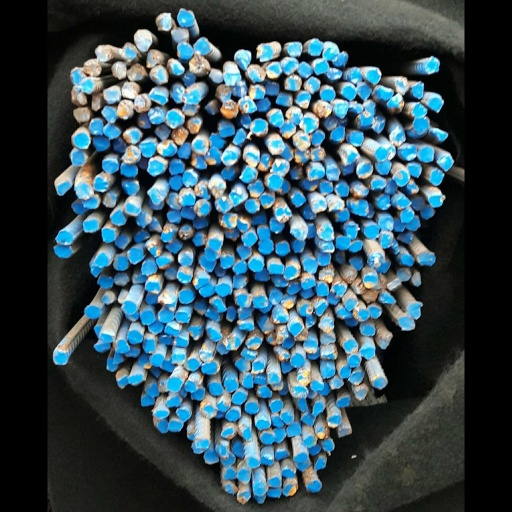dipstick: (105, 29, 128, 52), (124, 64, 148, 85), (124, 87, 149, 105), (84, 100, 106, 120), (211, 100, 235, 118), (229, 49, 249, 70), (284, 119, 305, 139), (89, 42, 111, 61), (268, 108, 290, 127), (274, 158, 297, 176), (417, 93, 437, 113), (131, 12, 152, 31), (292, 106, 313, 125), (151, 127, 173, 145), (92, 145, 114, 163), (57, 45, 80, 62), (233, 96, 257, 112), (159, 9, 180, 27), (178, 37, 199, 55), (145, 110, 166, 128), (185, 254, 206, 272), (331, 264, 352, 282), (44, 59, 66, 76), (146, 58, 168, 75), (92, 127, 114, 144), (279, 90, 301, 107), (303, 91, 325, 108), (317, 162, 340, 178), (232, 213, 251, 232), (337, 43, 356, 62), (106, 94, 126, 112), (223, 188, 243, 206), (240, 148, 260, 166), (224, 127, 244, 145), (379, 160, 399, 178), (396, 114, 414, 134), (158, 42, 179, 59), (176, 138, 197, 155), (180, 182, 201, 199), (298, 224, 319, 241), (209, 120, 230, 137), (255, 44, 276, 61), (225, 80, 246, 97), (151, 27, 173, 43), (122, 188, 144, 204), (133, 253, 155, 269), (235, 166, 257, 182), (27, 66, 46, 84), (124, 106, 143, 124), (165, 169, 184, 187), (180, 199, 199, 217), (463, 55, 481, 74), (193, 147, 213, 164), (245, 180, 265, 197), (287, 57, 307, 74), (291, 74, 311, 91), (315, 77, 335, 94), (380, 111, 400, 128), (68, 87, 89, 103), (144, 238, 165, 254), (248, 118, 269, 134), (206, 84, 227, 100), (308, 117, 329, 133), (68, 124, 90, 139), (32, 183, 54, 198), (145, 192, 163, 210), (266, 78, 284, 96), (91, 82, 110, 99), (151, 84, 168, 103), (440, 303, 459, 320), (389, 68, 408, 85), (426, 77, 445, 94), (97, 64, 117, 80), (213, 213, 233, 229), (276, 307, 296, 323), (348, 281, 368, 297), (247, 66, 267, 82), (305, 61, 325, 77), (402, 193, 422, 209), (448, 117, 468, 133), (478, 155, 498, 171), (55, 136, 76, 151), (122, 160, 143, 175), (91, 180, 112, 195), (160, 289, 181, 304), (270, 139, 291, 154), (391, 253, 412, 268), (165, 90, 187, 104), (65, 159, 87, 173), (66, 106, 84, 123), (66, 191, 84, 208), (319, 38, 337, 55), (77, 62, 96, 78), (115, 51, 134, 67), (170, 117, 189, 133), (131, 124, 150, 140), (149, 158, 168, 174), (160, 224, 179, 240), (332, 224, 351, 240), (322, 197, 341, 213), (351, 181, 370, 197), (198, 132, 217, 148), (268, 62, 287, 78), (343, 64, 362, 80), (380, 84, 399, 100), (454, 146, 473, 162), (27, 150, 47, 165), (112, 142, 132, 157), (114, 260, 134, 275), (158, 268, 178, 283), (258, 239, 278, 254), (243, 335, 263, 350), (279, 207, 299, 222), (321, 147, 341, 162), (446, 103, 466, 118), (89, 163, 110, 177), (10, 231, 31, 245), (44, 305, 65, 319), (179, 275, 200, 289), (198, 298, 219, 312), (246, 85, 267, 99), (455, 252, 476, 266), (51, 118, 68, 135), (364, 222, 381, 239), (56, 176, 74, 192), (260, 192, 278, 208), (327, 300, 345, 316), (313, 258, 331, 274), (327, 59, 345, 75), (322, 130, 340, 146), (408, 230, 424, 248), (8, 244, 30, 257), (98, 248, 117, 263), (119, 242, 138, 257), (146, 377, 165, 392), (206, 197, 225, 212), (270, 175, 289, 190), (382, 344, 401, 359), (351, 208, 370, 223), (302, 148, 321, 163), (424, 171, 443, 186), (402, 160, 421, 175), (434, 145, 453, 160), (360, 86, 379, 101), (419, 131, 438, 146), (445, 196, 464, 211), (466, 97, 485, 112), (31, 108, 51, 122), (159, 251, 179, 265), (171, 326, 191, 340), (188, 405, 208, 419), (216, 336, 236, 350), (185, 283, 205, 297), (213, 150, 233, 164), (213, 166, 233, 180), (298, 193, 318, 207), (344, 198, 364, 212), (319, 166, 339, 180), (403, 86, 423, 100), (193, 308, 214, 321), (159, 143, 176, 159), (351, 51, 368, 67), (351, 102, 368, 118), (371, 131, 388, 147), (442, 162, 459, 178), (469, 169, 486, 185), (32, 133, 50, 148), (108, 114, 126, 129), (78, 210, 96, 225), (6, 350, 24, 365), (232, 469, 250, 484), (279, 240, 297, 255), (333, 180, 351, 195), (294, 41, 312, 56), (255, 97, 273, 112), (347, 126, 365, 141), (406, 215, 424, 230), (439, 216, 457, 231), (42, 195, 61, 209), (28, 200, 47, 214), (81, 272, 100, 286), (112, 311, 131, 325), (97, 330, 116, 344), (225, 391, 244, 405), (230, 358, 249, 372), (195, 327, 214, 341), (206, 283, 225, 297), (227, 274, 246, 288), (256, 226, 275, 240), (289, 265, 308, 279), (310, 413, 329, 427), (313, 340, 332, 354), (370, 256, 389, 270), (313, 177, 332, 191), (427, 267, 446, 281), (426, 195, 445, 209), (429, 228, 448, 242), (160, 193, 180, 206), (89, 301, 109, 314), (231, 246, 251, 259), (332, 319, 352, 332), (431, 317, 451, 330), (271, 289, 287, 305), (39, 79, 56, 94), (79, 138, 96, 153), (148, 176, 165, 191), (83, 234, 100, 249), (216, 378, 233, 393), (276, 428, 293, 443), (447, 82, 462, 99), (341, 166, 358, 181), (363, 151, 380, 166), (65, 228, 83, 242), (109, 213, 127, 227), (80, 256, 98, 270), (124, 320, 142, 334), (168, 358, 186, 372), (212, 453, 230, 467), (192, 247, 213, 259), (239, 232, 257, 246), (306, 371, 324, 385), (272, 218, 290, 232), (241, 199, 259, 213), (387, 274, 405, 288), (403, 259, 421, 273), (457, 205, 475, 219), (145, 210, 164, 223), (163, 207, 182, 220), (62, 275, 81, 288), (136, 309, 155, 322), (246, 258, 265, 271), (254, 268, 273, 281), (238, 347, 257, 360), (301, 385, 320, 398), (375, 309, 394, 322), (57, 252, 73, 267), (112, 354, 128, 369), (188, 362, 208, 374), (233, 307, 253, 319), (401, 146, 416, 162), (119, 382, 136, 396), (197, 382, 214, 396), (213, 426, 230, 440), (205, 445, 222, 459), (272, 399, 289, 413), (294, 423, 311, 437), (211, 254, 228, 268), (227, 260, 244, 274), (298, 353, 315, 367), (297, 322, 314, 336), (287, 294, 304, 308), (363, 340, 380, 354), (342, 291, 359, 305), (432, 208, 449, 222), (95, 202, 113, 215), (82, 340, 100, 353), (269, 485, 287, 498), (317, 480, 335, 493), (389, 225, 407, 238), (42, 220, 61, 232), (178, 217, 197, 229), (119, 281, 138, 293), (292, 282, 311, 294), (383, 324, 402, 336), (396, 177, 415, 189), (408, 292, 427, 304), (125, 217, 140, 232), (50, 263, 66, 277), (238, 374, 254, 388), (218, 306, 232, 322), (370, 371, 386, 385), (408, 335, 424, 349), (331, 252, 347, 266), (354, 236, 370, 250), (11, 182, 28, 195), (103, 270, 120, 283), (125, 354, 142, 367), (157, 409, 174, 422), (343, 415, 360, 428), (347, 376, 364, 389), (335, 365, 352, 378), (308, 303, 325, 316), (433, 253, 450, 266), (468, 194, 485, 207), (156, 311, 174, 323), (191, 452, 209, 464), (257, 386, 275, 398), (304, 460, 322, 472), (285, 412, 303, 424), (251, 296, 269, 308), (277, 275, 295, 287), (334, 439, 352, 451), (335, 333, 353, 345), (334, 89, 352, 101), (71, 357, 86, 371), (330, 282, 345, 296), (143, 325, 162, 336), (278, 449, 297, 460), (219, 409, 235, 422), (300, 240, 316, 253), (393, 306, 409, 319), (178, 234, 195, 246), (242, 402, 259, 414), (251, 483, 268, 495), (250, 361, 267, 373), (186, 350, 203, 362), (329, 426, 346, 438), (398, 377, 415, 389), (165, 105, 183, 116), (95, 346, 113, 357), (154, 336, 172, 347), (147, 421, 165, 432), (232, 493, 250, 504), (242, 457, 260, 468), (260, 433, 278, 444), (313, 436, 331, 447), (311, 278, 329, 289), (425, 218, 439, 232), (116, 339, 131, 352), (235, 426, 250, 439), (365, 298, 380, 311), (206, 342, 222, 354), (196, 238, 212, 250), (368, 355, 384, 367), (370, 240, 386, 252), (63, 333, 82, 343), (301, 452, 320, 462), (99, 374, 116, 385), (151, 353, 168, 364), (114, 395, 131, 406), (181, 438, 198, 449), (207, 401, 224, 412), (288, 485, 305, 496), (272, 263, 289, 274), (168, 380, 182, 393), (324, 402, 338, 415), (378, 387, 392, 400), (358, 365, 372, 378), (139, 230, 154, 242), (66, 292, 81, 304), (57, 343, 77, 352), (275, 416, 290, 428), (270, 372, 285, 384), (332, 383, 347, 395), (447, 271, 459, 286), (146, 396, 162, 407), (176, 388, 192, 399), (217, 483, 233, 494), (260, 455, 276, 466), (354, 396, 370, 407), (322, 380, 338, 391), (95, 312, 112, 322), (356, 428, 373, 438), (328, 457, 341, 470), (85, 375, 99, 387), (255, 420, 273, 429), (270, 477, 286, 487), (135, 420, 147, 433), (216, 468, 230, 479), (283, 350, 297, 361), (286, 469, 303, 478), (130, 410, 147, 418), (81, 352, 93, 363), (178, 443, 190, 453), (170, 433, 180, 441)
